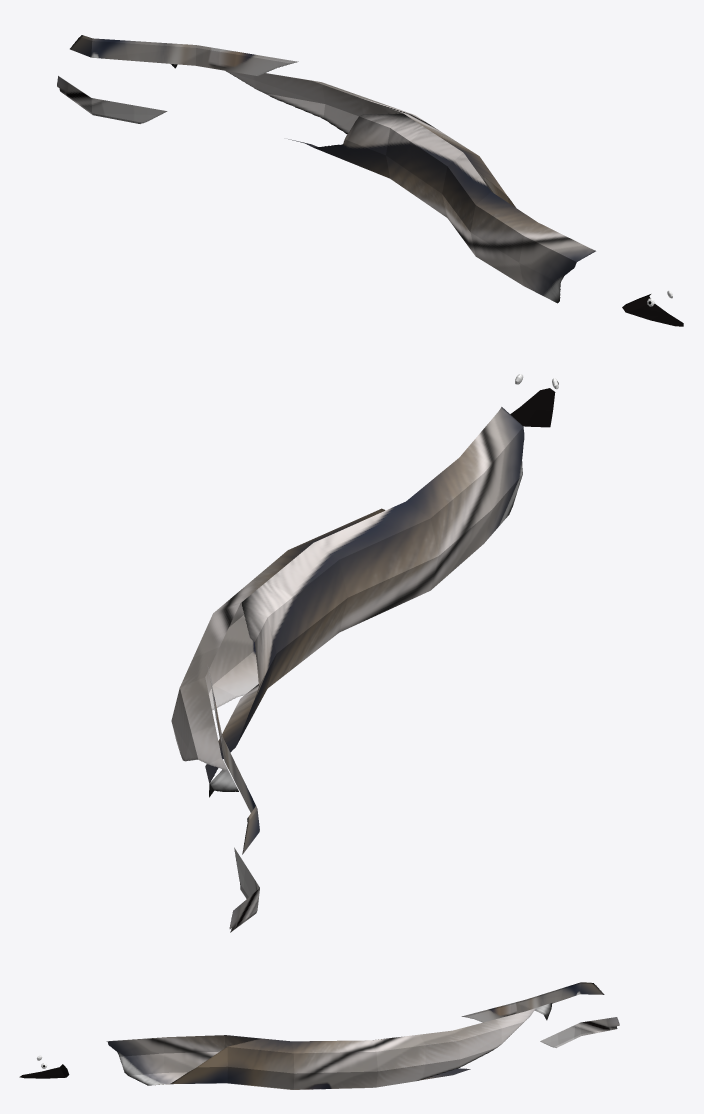
Rendered from eel.obj.
3 views of the same model, one above another, from view 1: azimuth 30°, elevation 25°; view 2: azimuth 150°, elevation 25°; view 3: azimuth 270°, elevation 25° (orthographic). The views are drawn at different scales.
Bounding box in the file's own units: 3.46 × 1.5 × 12.81.
Materials: 4 (1 with a texture image).
